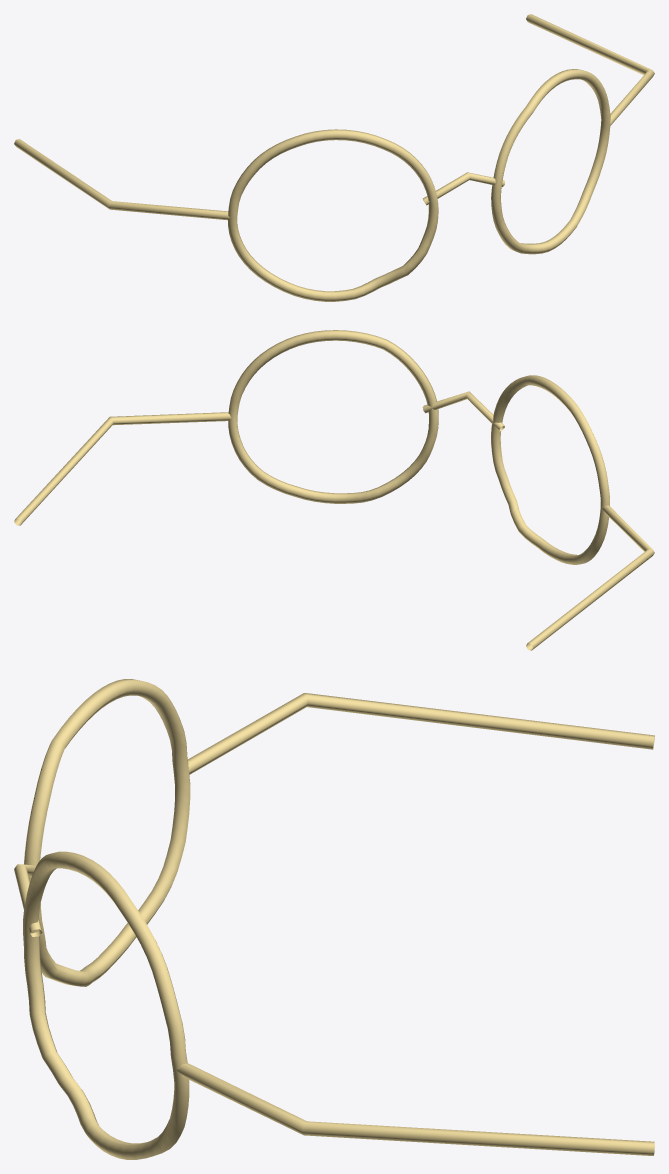
File: restart_glasses_round_penguin.glb
3 views of the same model, one above another, from view 1: azimuth 30°, elevation 25°; view 2: azimuth 150°, elevation 25°; view 3: azimuth 270°, elevation 25° (orthographic). The views are drawn at different scales.
Visible parts, largest first — view 1: Montura.002, Montura.003, Patilla curva.002, Patilla curva.003, Puente nasal.001; view 2: Montura.003, Montura.002, Patilla curva.003, Patilla curva.002, Puente nasal.001; view 3: Montura.003, Montura.002, Patilla curva.003, Patilla curva.002.
Boxes of the visible parts, bbox=[...] form: Montura.002: bbox=[228, 129, 438, 301]; Montura.003: bbox=[491, 69, 610, 254]; Patilla curva.002: bbox=[14, 139, 230, 220]; Patilla curva.003: bbox=[526, 14, 654, 125]; Puente nasal.001: bbox=[423, 172, 504, 205]; Montura.003: bbox=[228, 330, 438, 503]; Montura.002: bbox=[491, 375, 609, 564]; Patilla curva.003: bbox=[14, 412, 231, 525]; Patilla curva.002: bbox=[526, 505, 654, 650]; Puente nasal.001: bbox=[422, 391, 504, 431]; Montura.003: bbox=[23, 851, 189, 1159]; Montura.002: bbox=[24, 679, 190, 986]; Patilla curva.003: bbox=[176, 1063, 654, 1155]; Patilla curva.002: bbox=[188, 693, 654, 774].
Bounding box in the file's own units: 0.7072 × 0.2115 × 0.4413.
